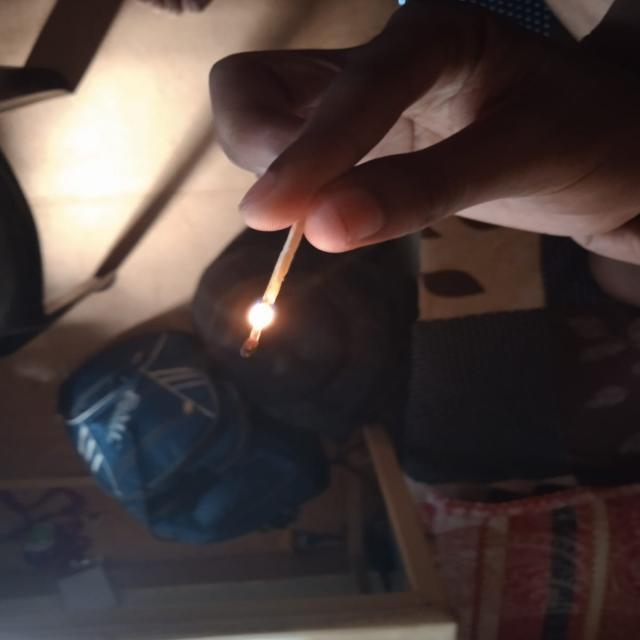Fire: (218, 257, 308, 384)
